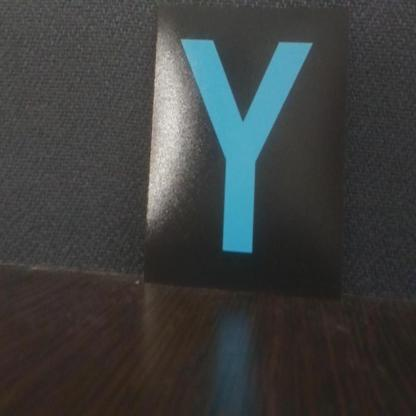y: (143, 7, 342, 287)
